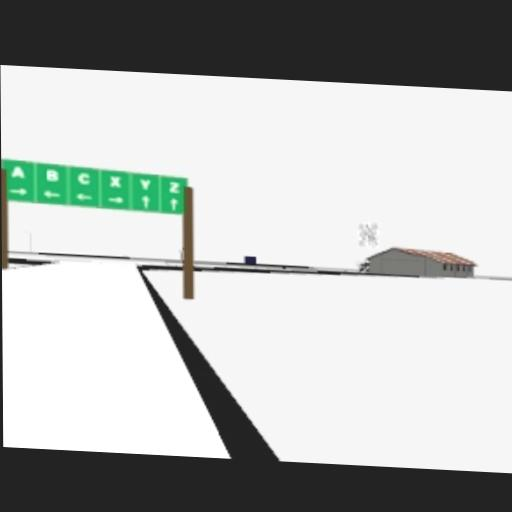A: (11, 165, 26, 180)
B: (45, 169, 59, 183)
C: (77, 170, 91, 186)
Left: (41, 190, 61, 201), (75, 191, 93, 203)
Right: (8, 186, 30, 198), (107, 194, 126, 205)
Straight: (140, 195, 152, 210), (170, 197, 179, 213)
X: (108, 175, 122, 189)
Y: (138, 178, 152, 191)
Z: (168, 181, 181, 195)
